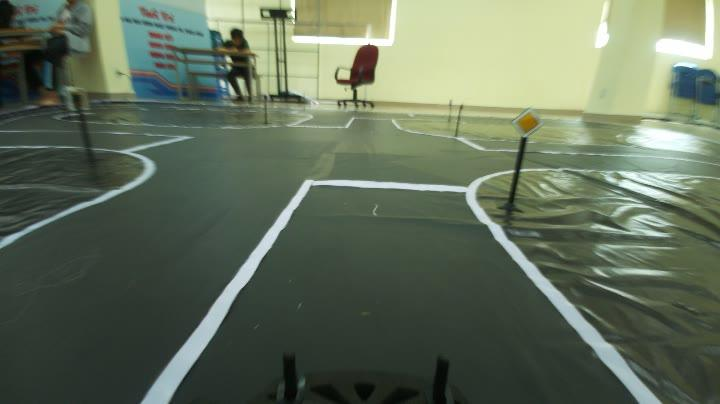priority: (507, 104, 549, 142)
